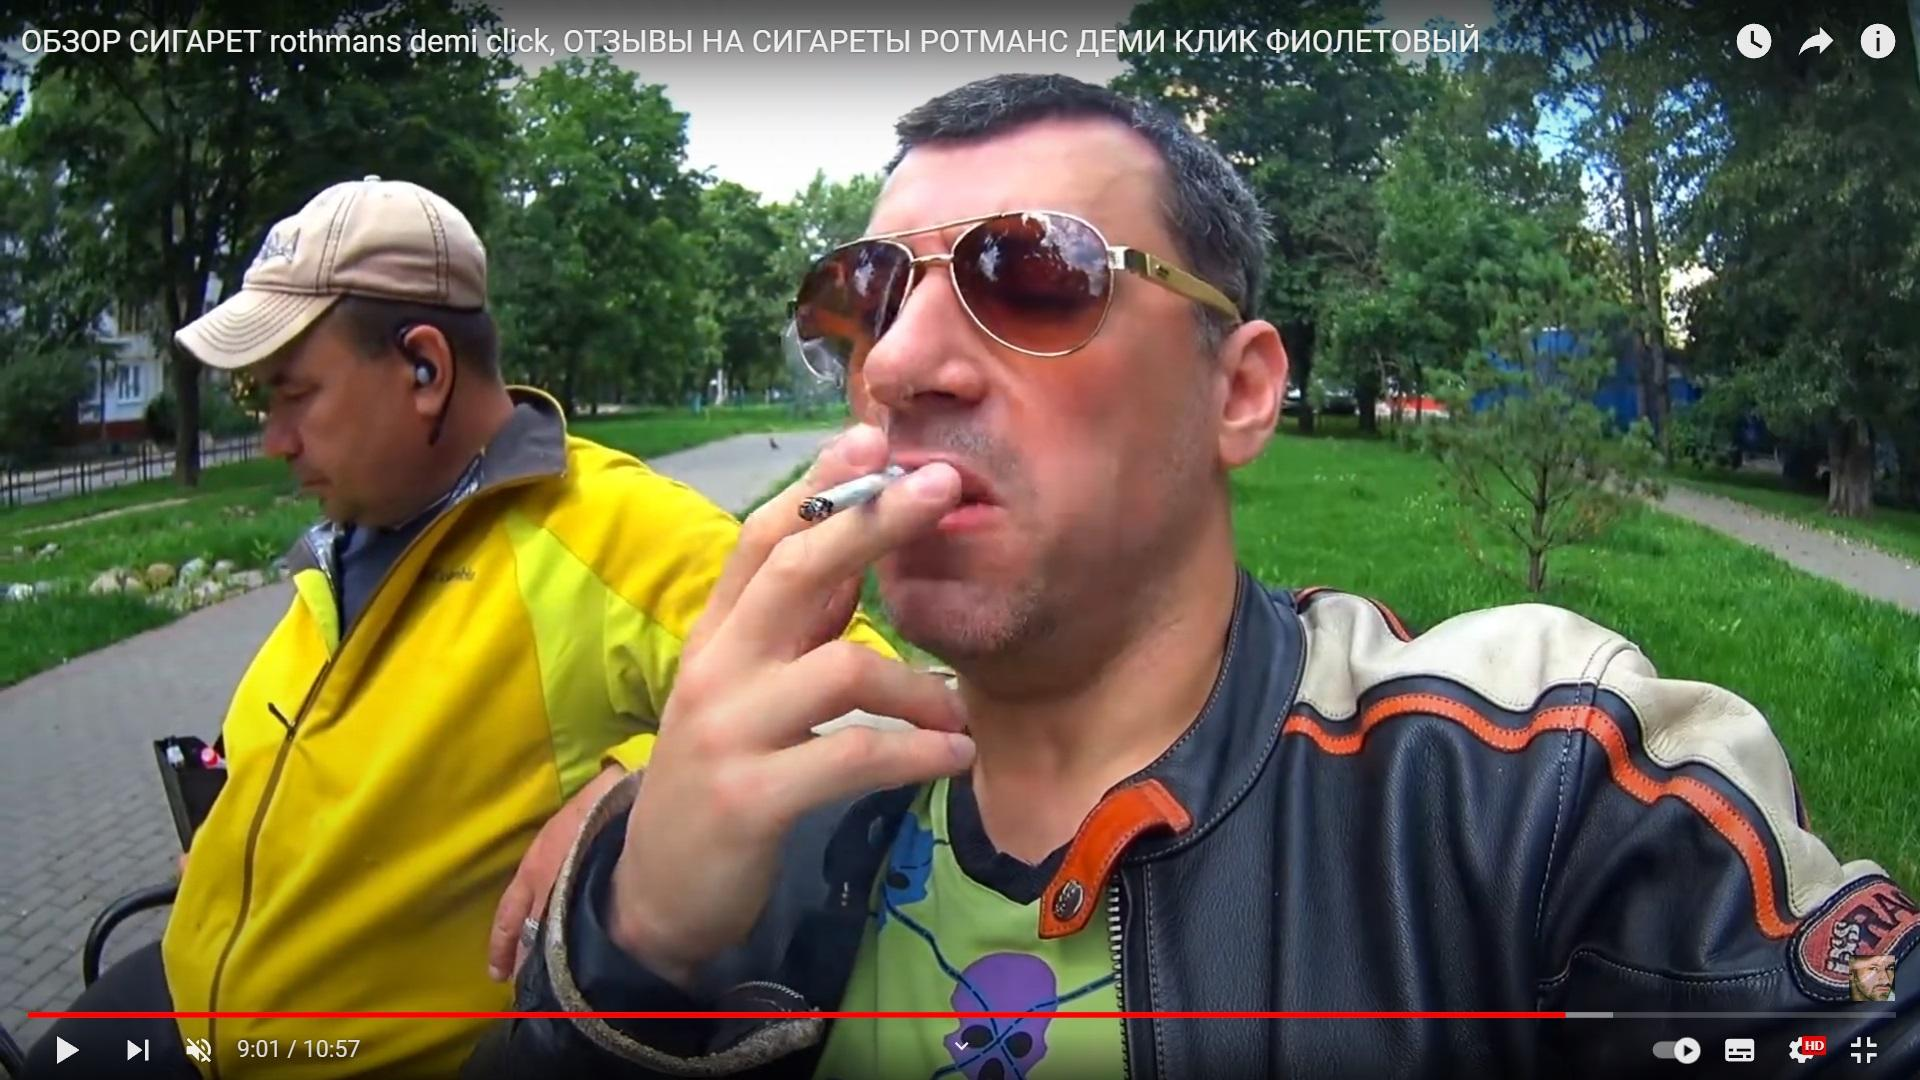cigarette: (796, 465, 909, 522)
